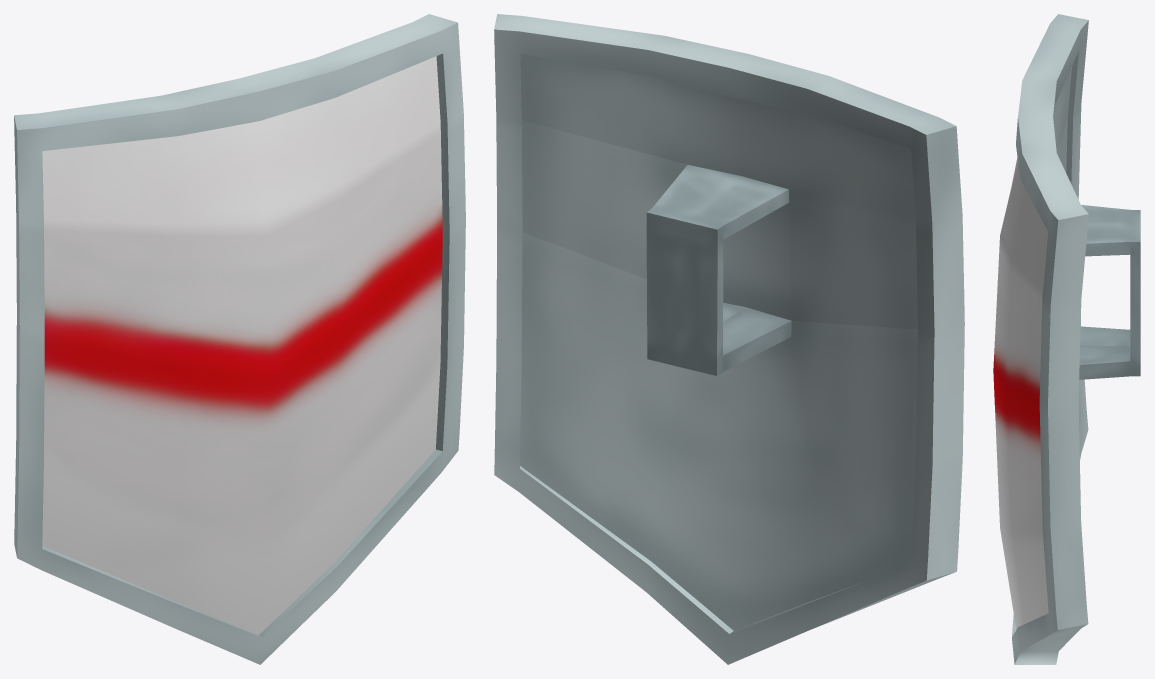
Rendered from normal_shield.fbx.
The picture shows the model from 3 angles, left to right: view 1: azimuth 30°, elevation 25°; view 2: azimuth 150°, elevation 25°; view 3: azimuth 270°, elevation 25°; orthographic projection. The views are drawn at different scales.
Parts seen in each view (by area): view 1: pCube1; view 2: pCube1; view 3: pCube1.
Part boxes in pixels (left/top/right/bottom): pCube1: left=14, top=14, right=465, bottom=664; pCube1: left=494, top=14, right=964, bottom=664; pCube1: left=993, top=14, right=1140, bottom=664.
Size of the model in its own units: 204 by 250 by 60.9.
Materials: 1 (1 with a texture image).
